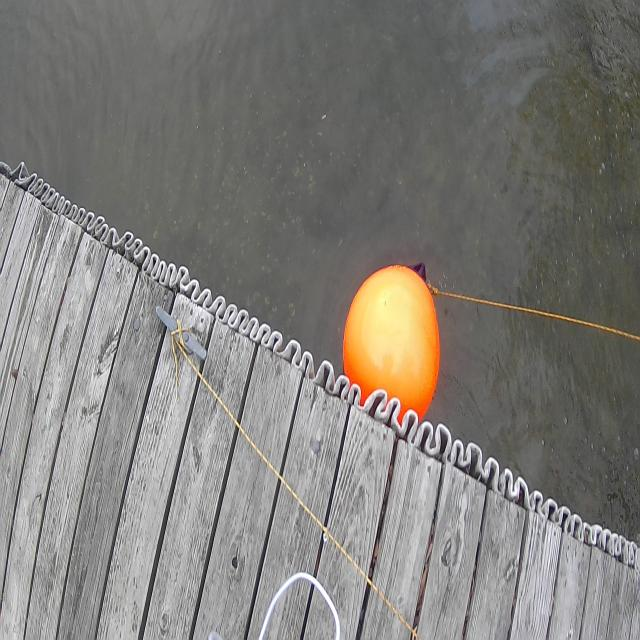Buoy: (338, 252, 441, 428)
